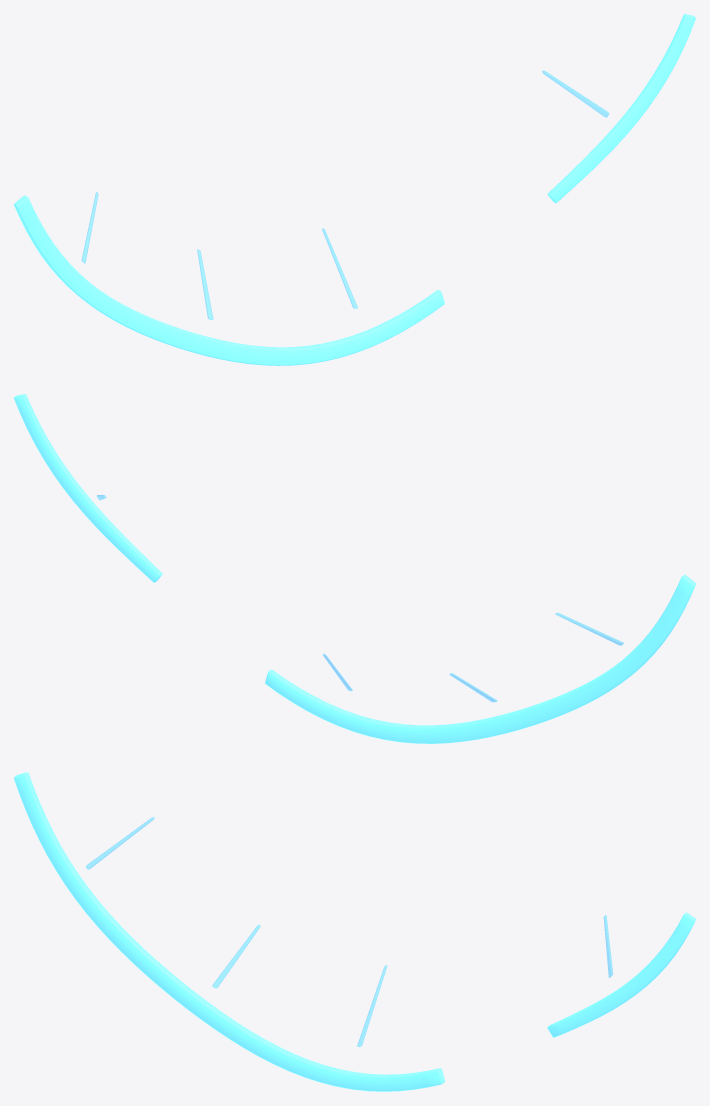
Rendered from wormhole-arena-lip-v1.glb.
3 renders of one model, top to bottom at view 1: azimuth 30°, elevation 25°; view 2: azimuth 150°, elevation 25°; view 3: azimuth 330°, elevation 25°, orthographic.
Visible parts, largest first — view 1: near_lip_primary, near_lip_secondary; view 2: near_lip_primary, near_lip_secondary; view 3: near_lip_primary, near_lip_secondary.
Part boxes in pixels (x1,y1,x2,y2): near_lip_primary: (14, 195, 444, 365); near_lip_secondary: (547, 14, 695, 202); near_lip_primary: (265, 574, 695, 743); near_lip_secondary: (14, 394, 162, 582); near_lip_primary: (14, 772, 444, 1091); near_lip_secondary: (547, 912, 695, 1037).
Bounding box in the file's own units: 135 × 48.84 × 12.43.
